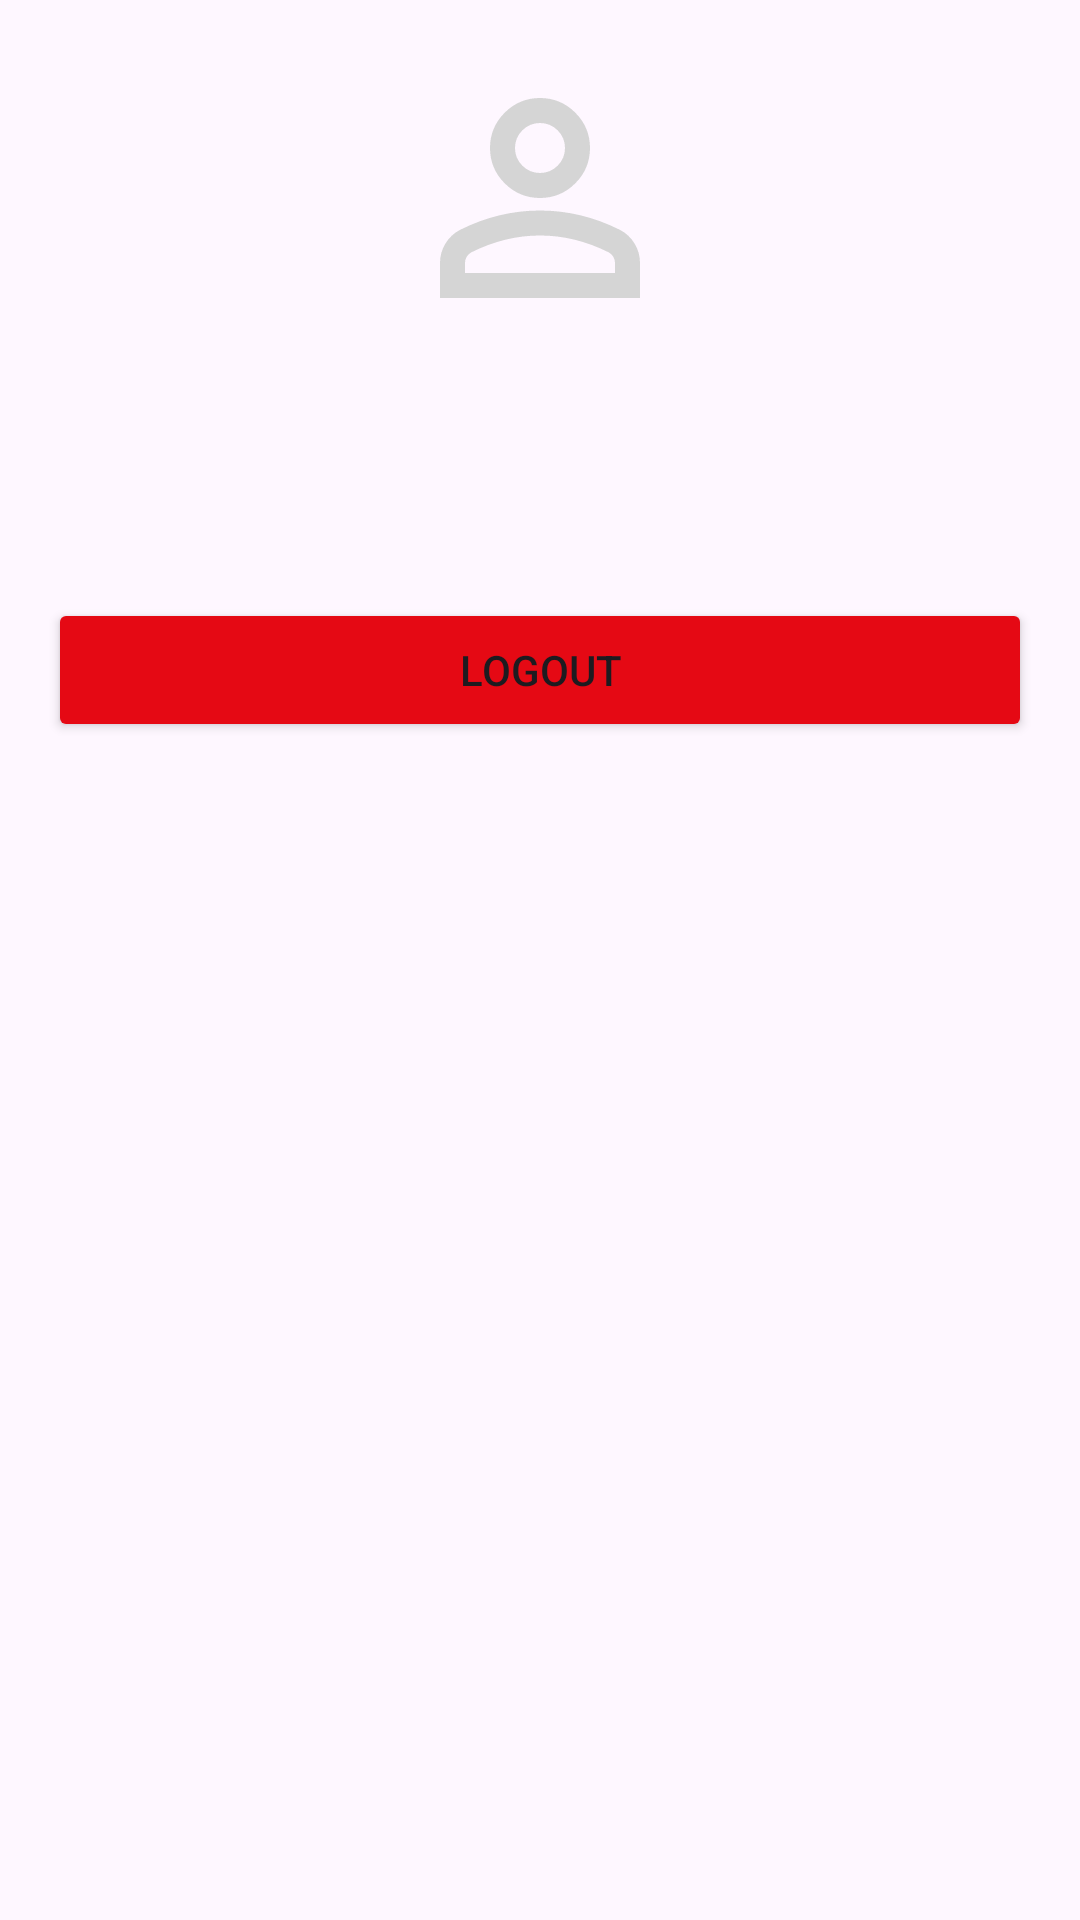

Icon bounding boxes for this 1080 × 1920 phone screenshot, format bbox=[x1, y1, x2, y2]:
person: bbox=[440, 98, 640, 298]
